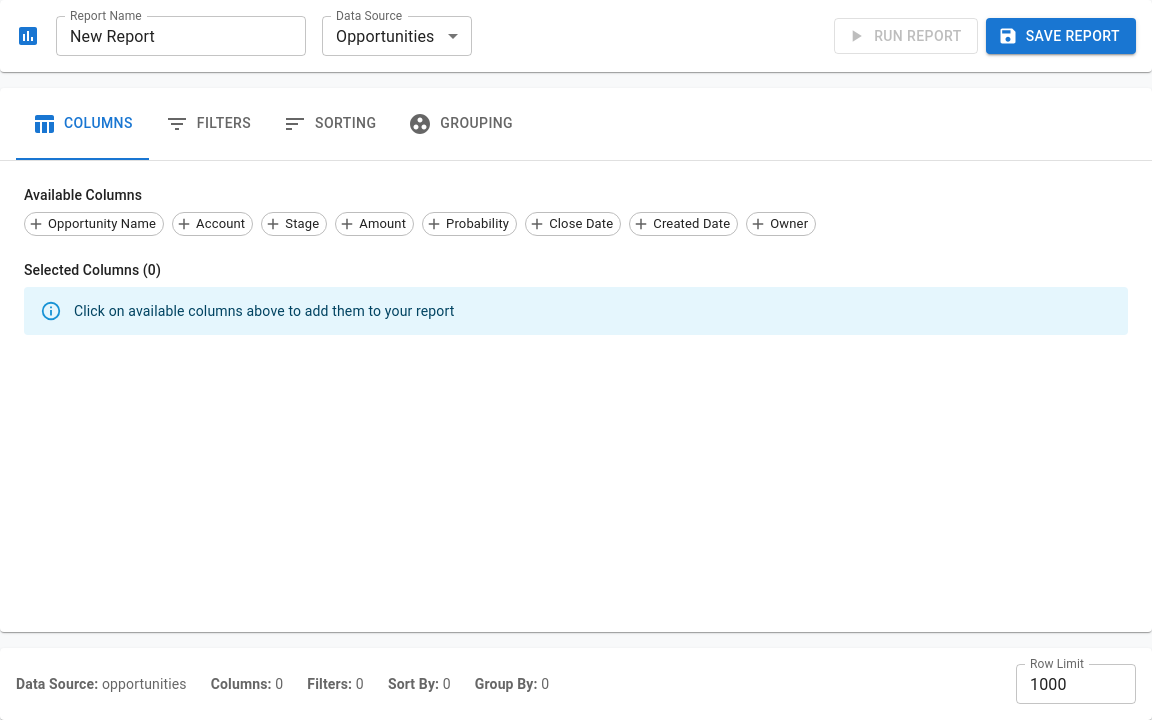
Test: ReportDesigner › shows an error when report name is not unique
Replace the text in the field labelled "Report Name" with "Sales Pipeline": (181, 36) [56, 16, 306, 56]
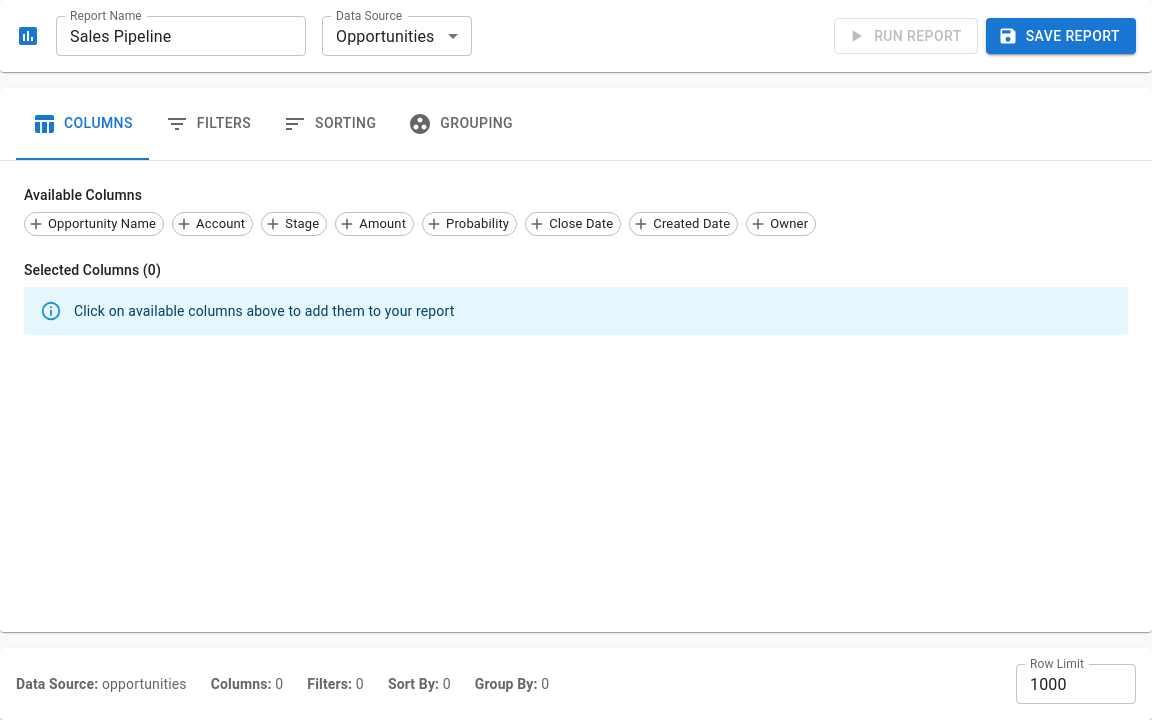
Click the button "Opportunity Name": (94, 224) [24, 212, 164, 236]
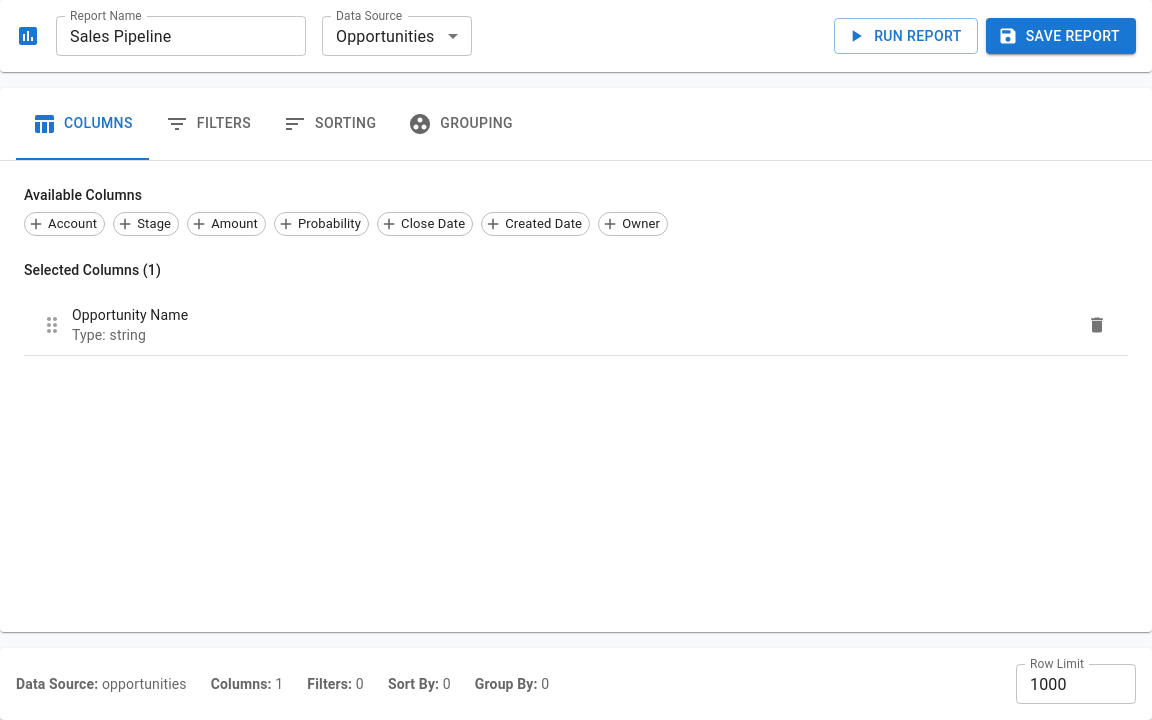
Click the button "Save Report": (1061, 36) [986, 18, 1136, 54]
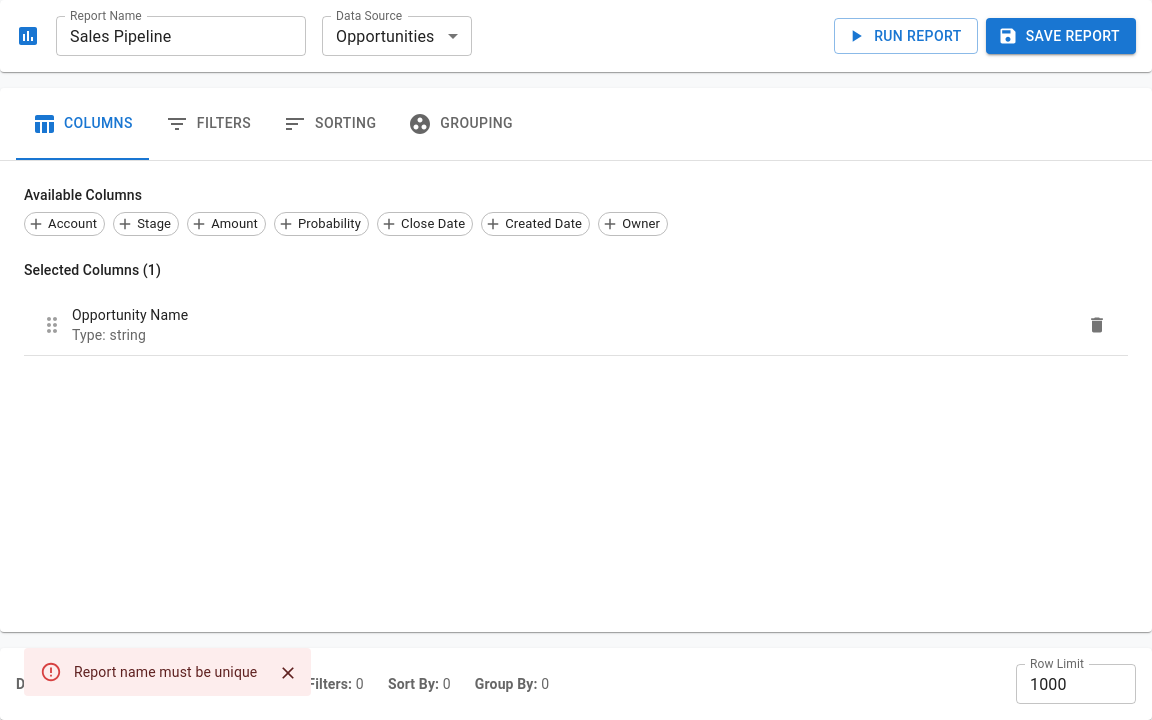
Expected: the text "Report name must be unique" is shown, [74, 664, 257, 680]
